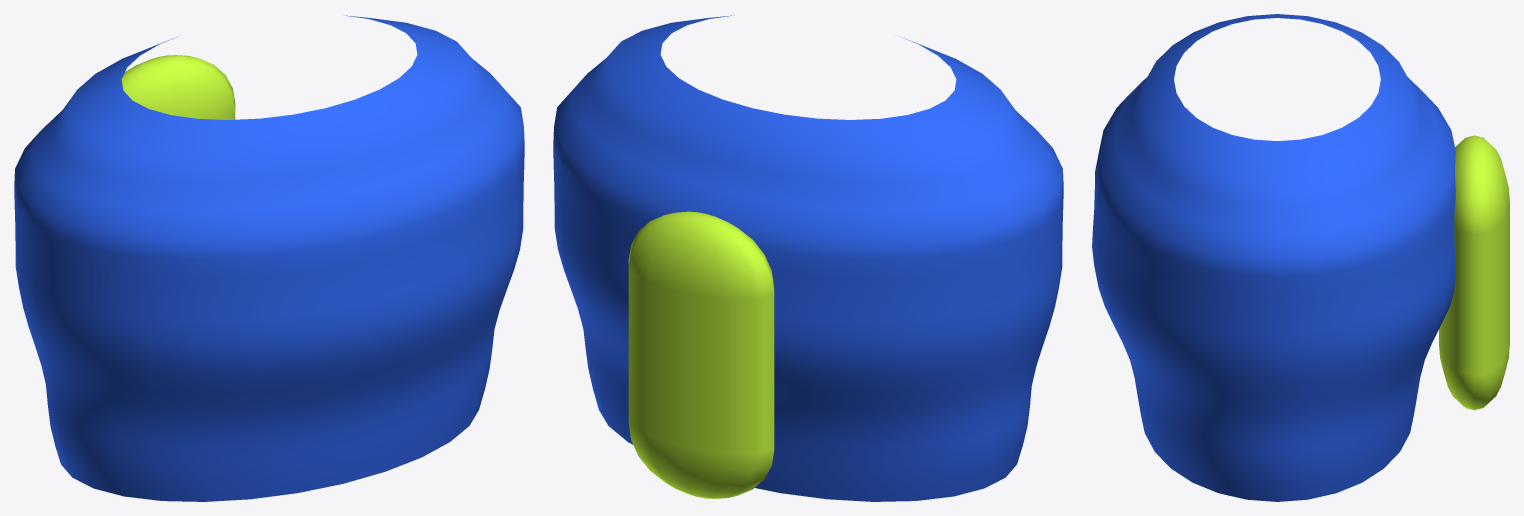
File: accessory_vest_male.glb
The picture shows the model from 3 angles, left to right: view 1: azimuth 30°, elevation 25°; view 2: azimuth 150°, elevation 25°; view 3: azimuth 270°, elevation 25°; orthographic projection. The views are drawn at different scales.
Visible parts, largest first — view 1: vest, bottle_pack; view 2: vest, bottle_pack; view 3: vest, bottle_pack.
Part boxes in pixels (x1,y1,x2,y2): vest: [14, 15, 524, 501]; bottle_pack: [121, 55, 235, 119]; vest: [553, 15, 1063, 501]; bottle_pack: [628, 211, 774, 498]; vest: [1092, 14, 1455, 501]; bottle_pack: [1439, 135, 1509, 410].
Bounding box in the file's own units: 0.3877 × 0.285 × 0.3233.
